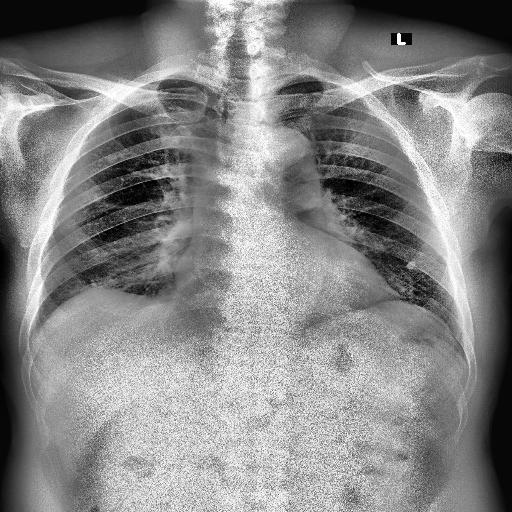0- Aortic enlargement: (248, 128, 322, 209), (264, 128, 322, 188), (260, 126, 312, 178)
3- Cardiomegaly: (168, 243, 398, 318)
8- Nodule-Mass: (405, 261, 415, 269)
9- Other lesion: (406, 260, 418, 270)
